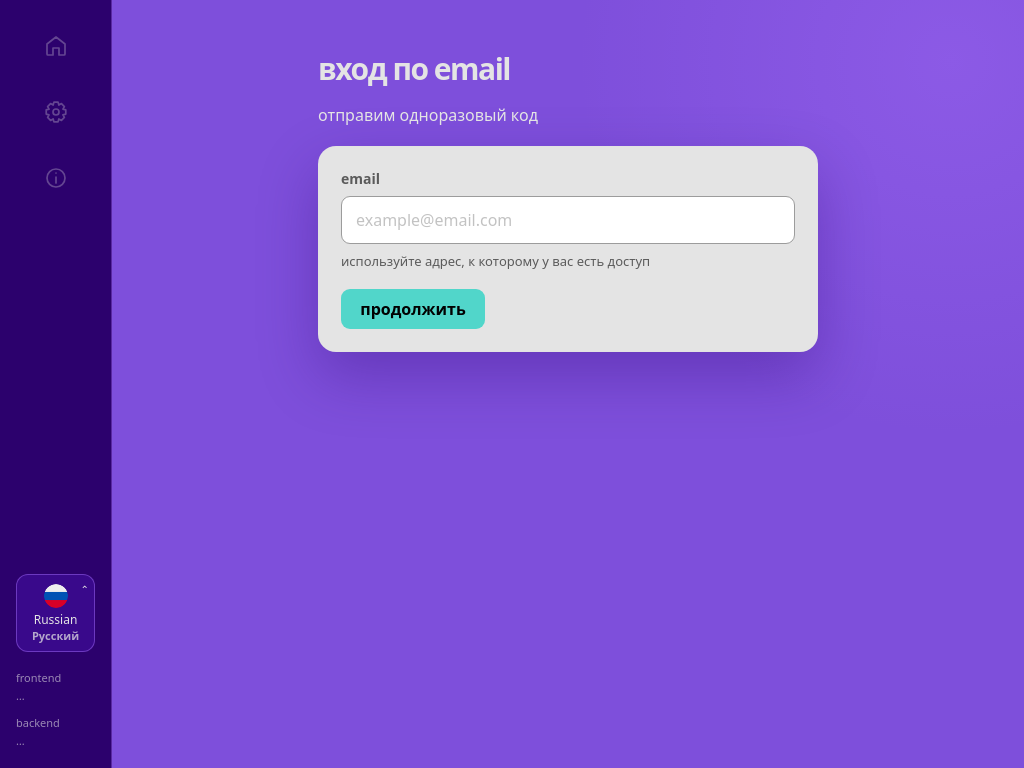
it: email login › shows the RATE_LIMITED state
The image size is (1024, 768).
In the field labelled "Email": {"x": 568, "y": 220} x1=341 y1=196 x2=795 y2=244, type "user@example.com"
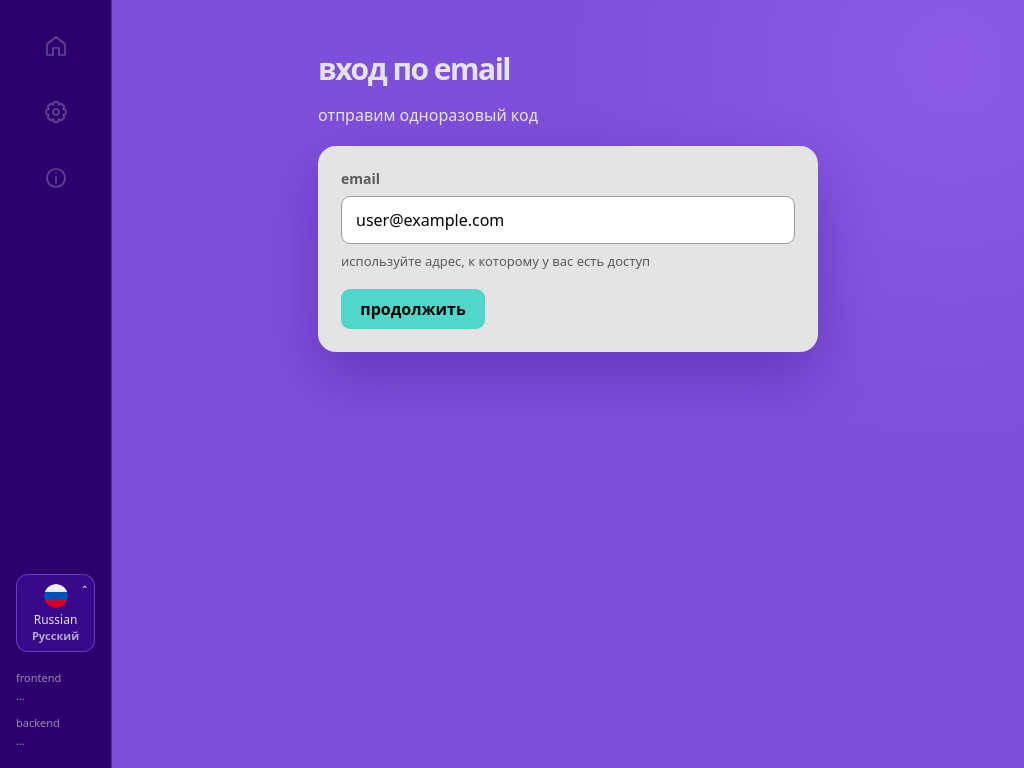
Click the button "продолжить": {"x": 413, "y": 309} x1=341 y1=289 x2=485 y2=329
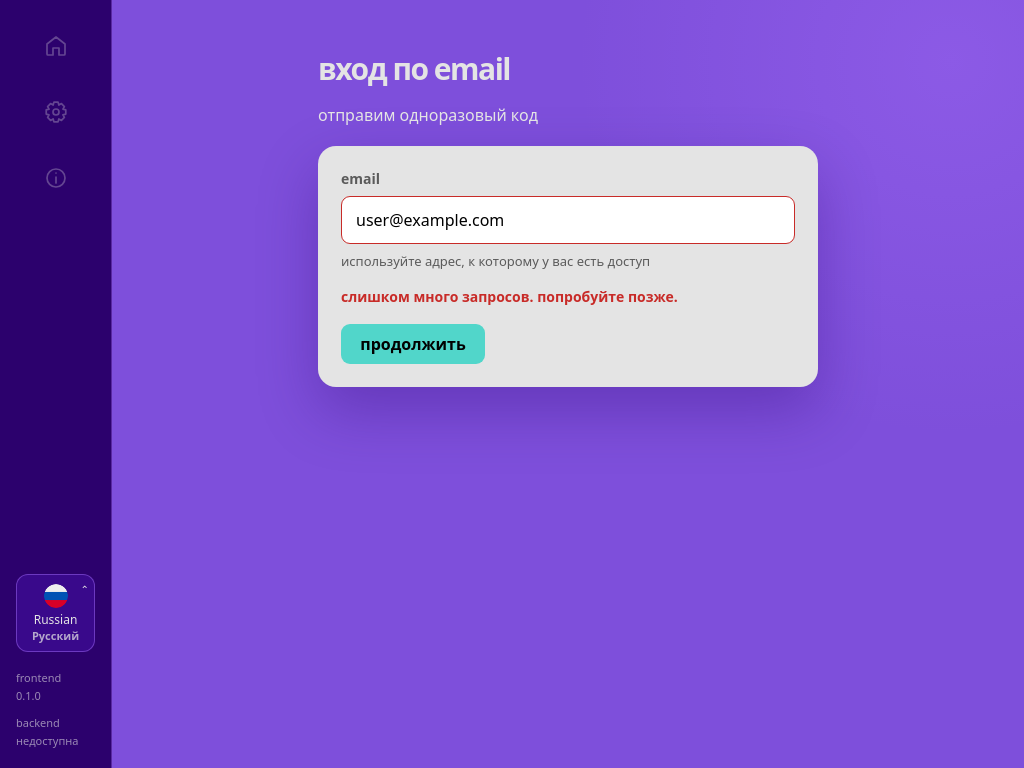
Check: the button "продолжить" is enabled, box x1=341 y1=324 x2=485 y2=364
Check: the message reads "Слишком много запросов. Попробуйте позже.", box x1=341 y1=287 x2=678 y2=306
